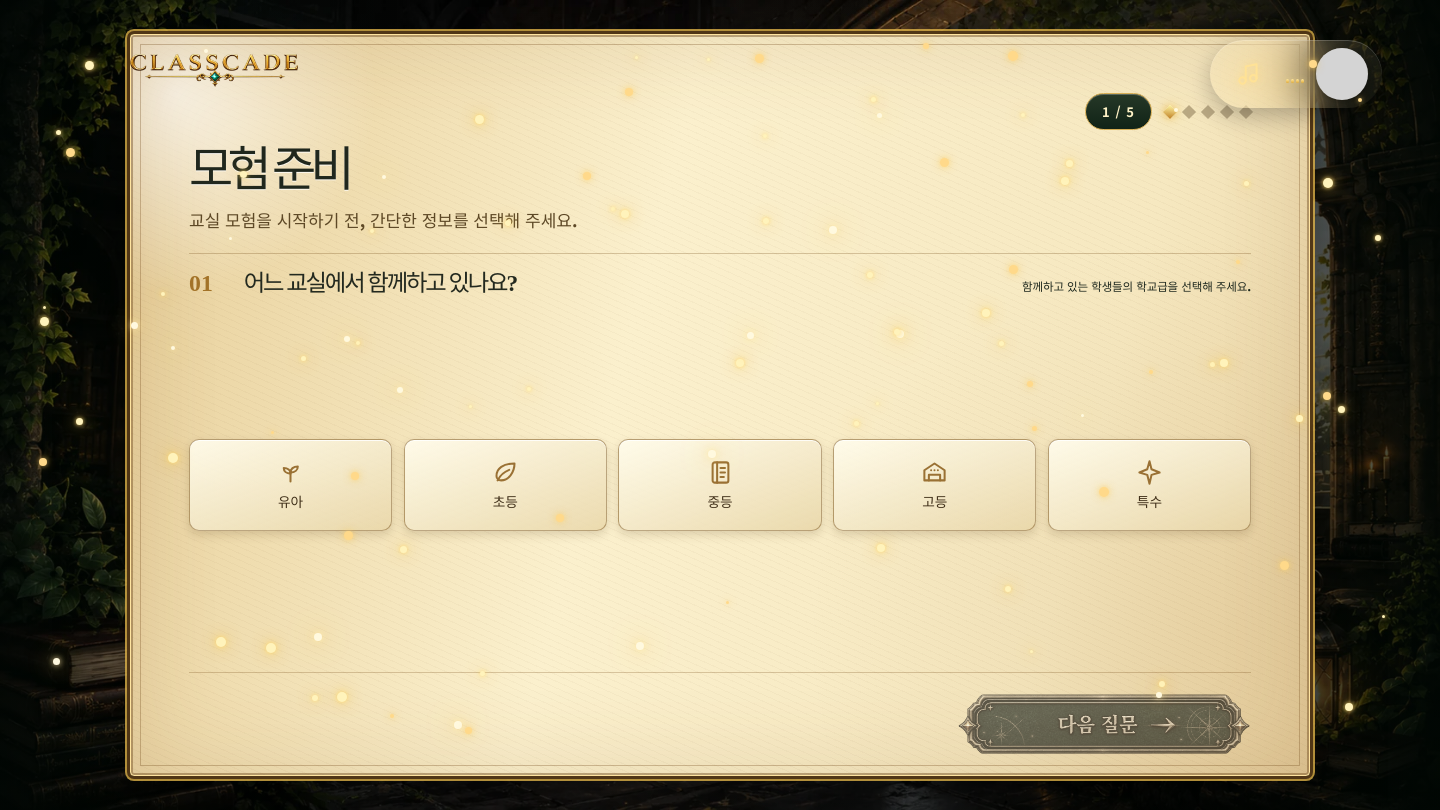
Test: AdventurePrepScreen golden path (flat rendering, the shipped default) › keeps step 1 next disabled until a school level is chosen, then advances to step 2
This screenshot has width=1440, height=810.
Check: the text "01" is shown, box left=189, top=270, right=213, bottom=297
Check: the button named "다음 질문" is disabled, box left=957, top=689, right=1251, bottom=759
Click the radio button "초등" at point(505, 485), box left=404, top=439, right=607, bottom=531
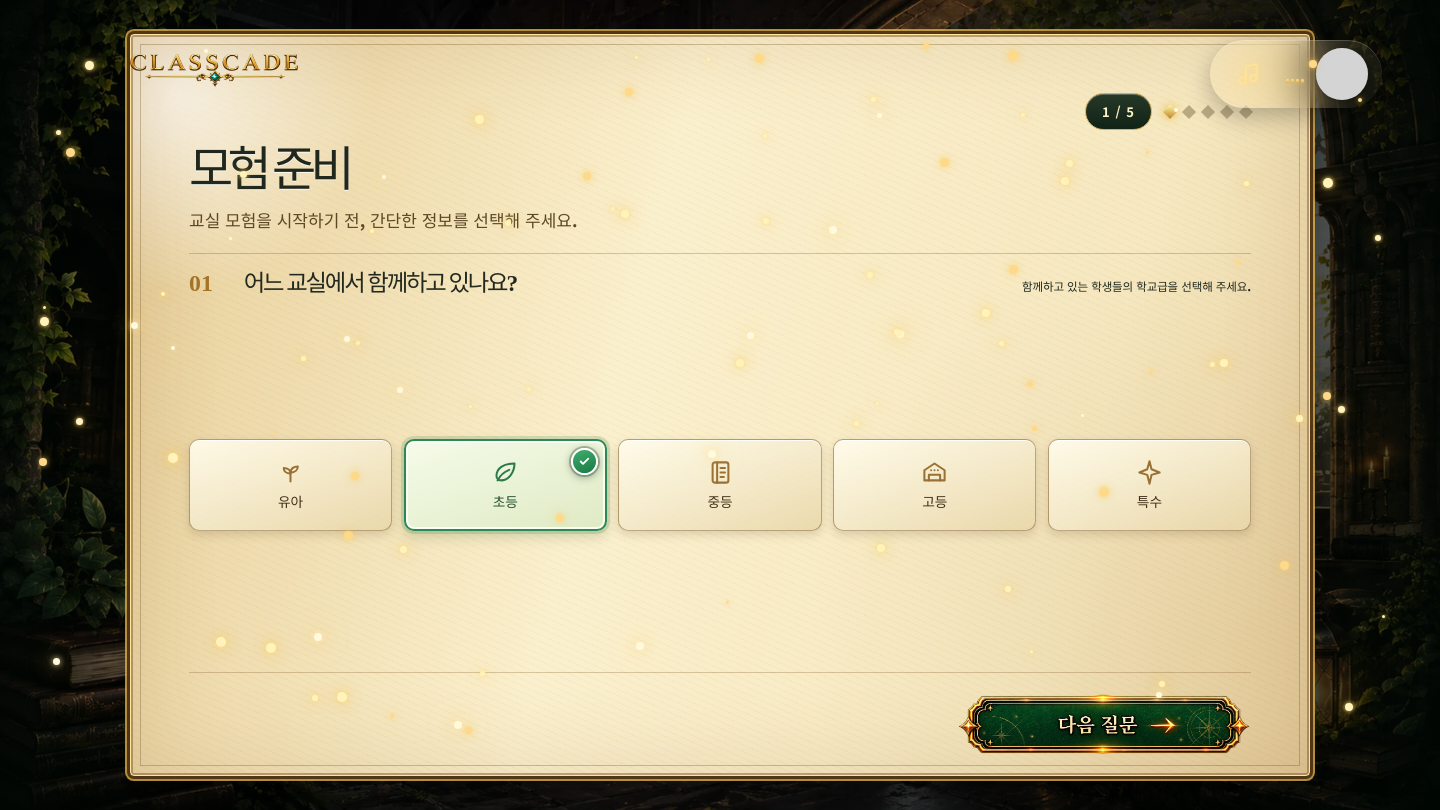
Check: the button named "다음 질문" is enabled
Click the button named "다음 질문" at point(1104, 724), box left=957, top=689, right=1251, bottom=759
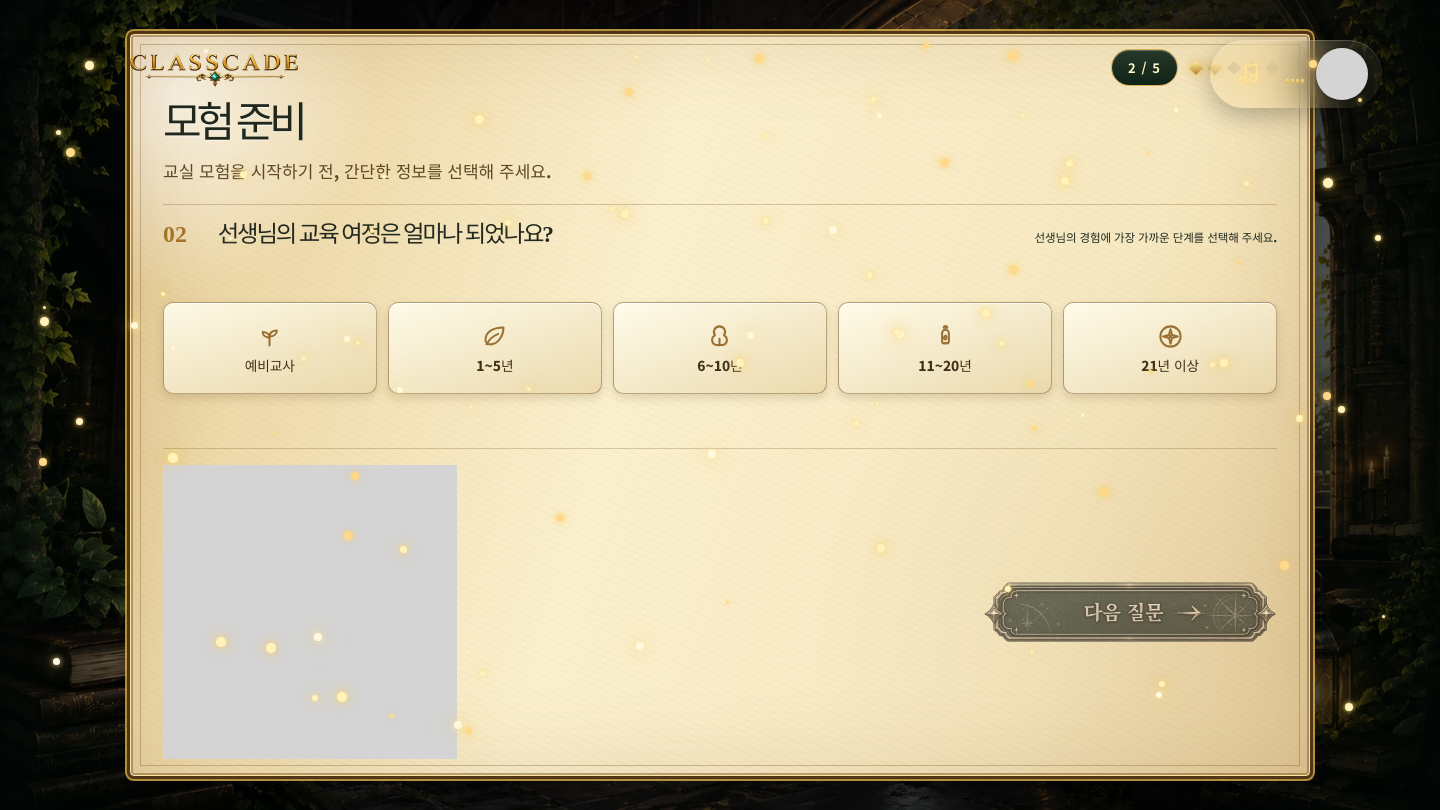
Check: the text "02" is shown, box left=163, top=221, right=187, bottom=248
